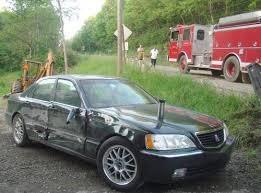doorouter-dent: (51, 107, 86, 148), (23, 100, 46, 142)
fender-dent: (91, 105, 138, 135)
